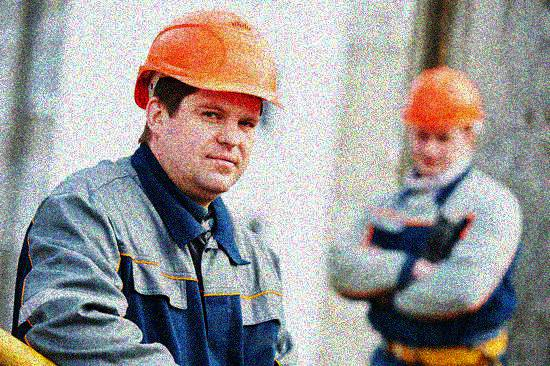helmet: (129, 7, 285, 194), (400, 63, 486, 179)
